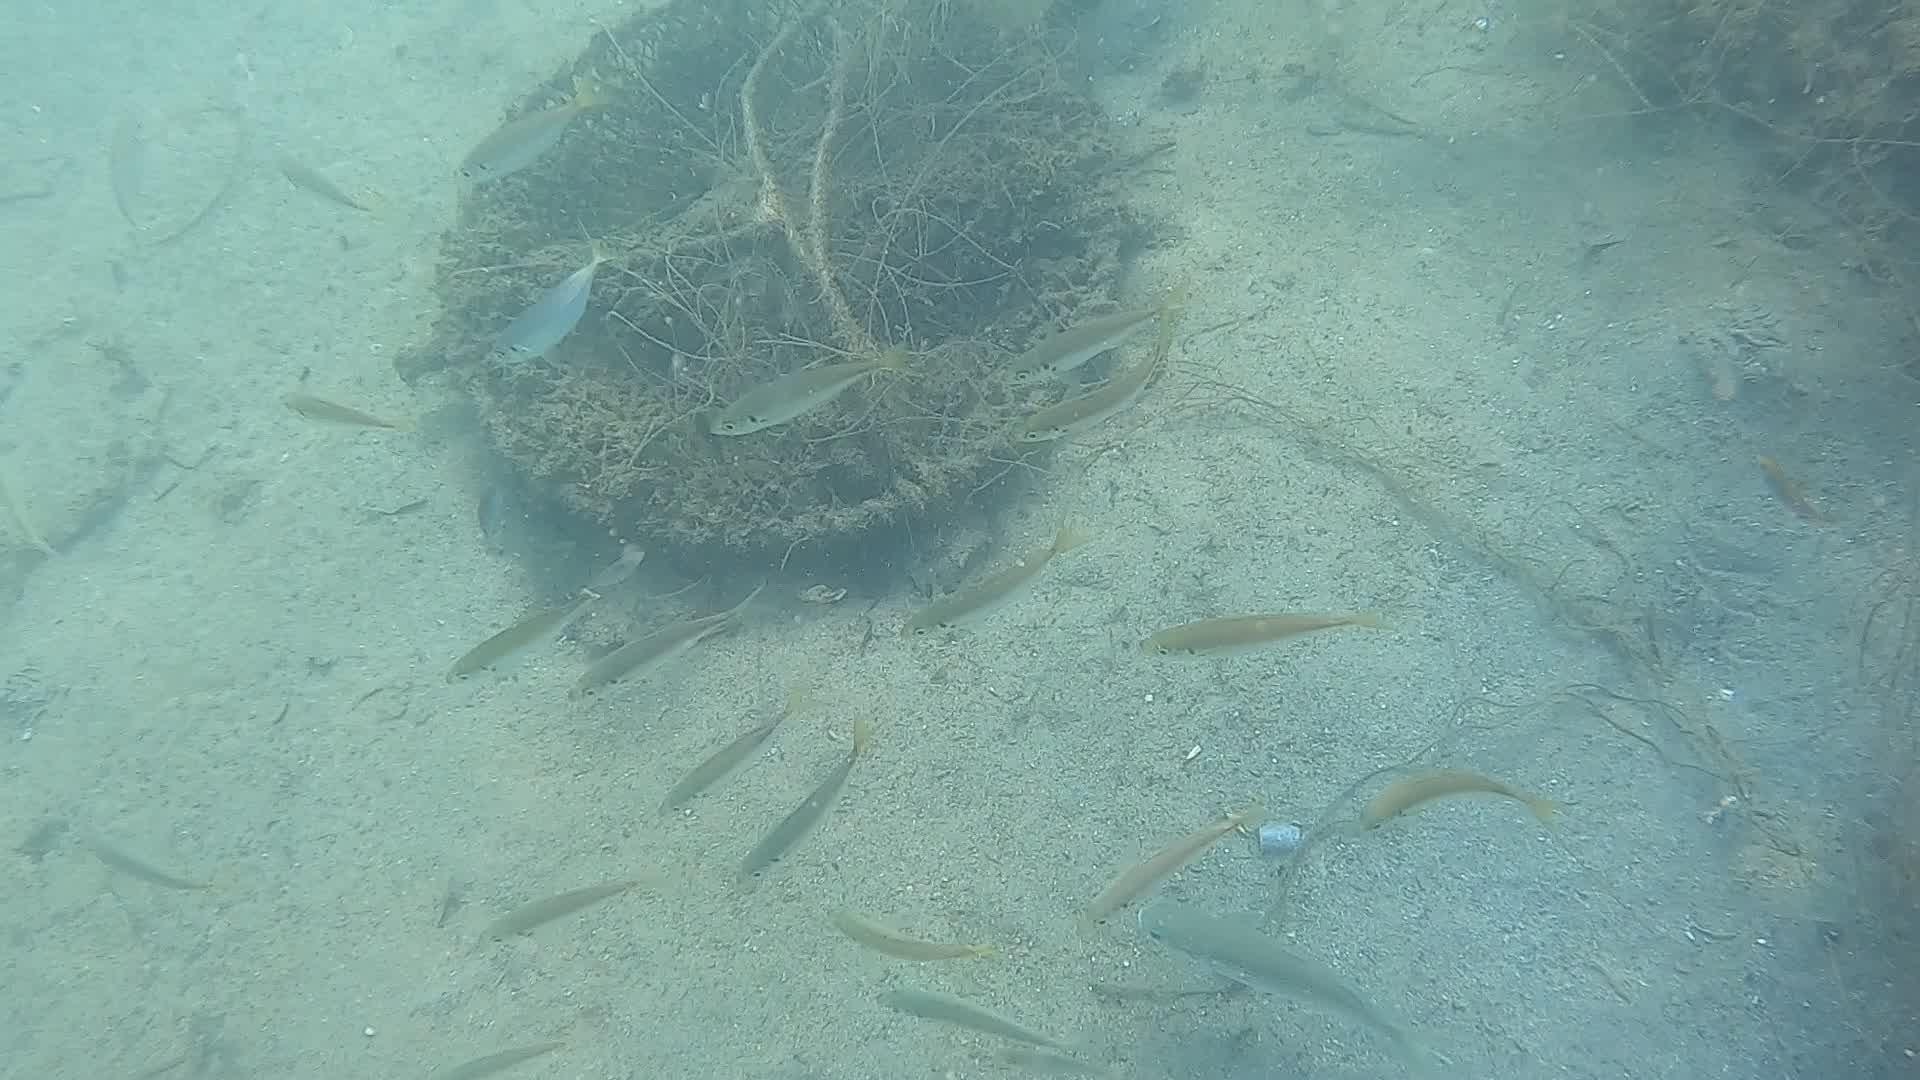circular fish trap: (419, 0, 1129, 551)
other objects: (688, 355, 903, 465)
